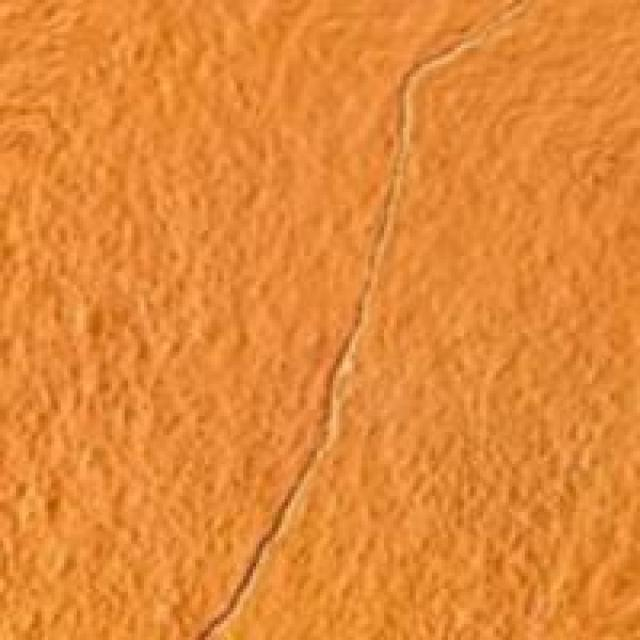crack: (188, 77, 426, 637)
